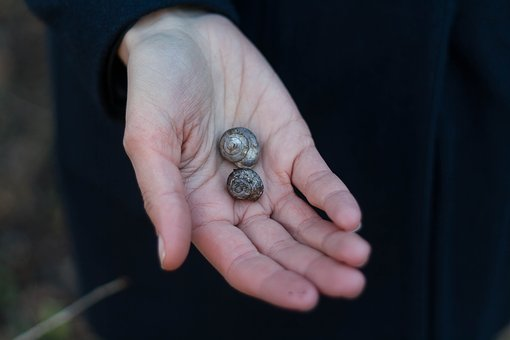palm: (142, 51, 323, 231)
